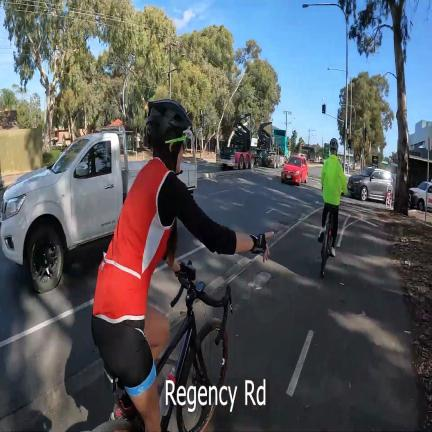Bike_Lane: (211, 202, 418, 432)
